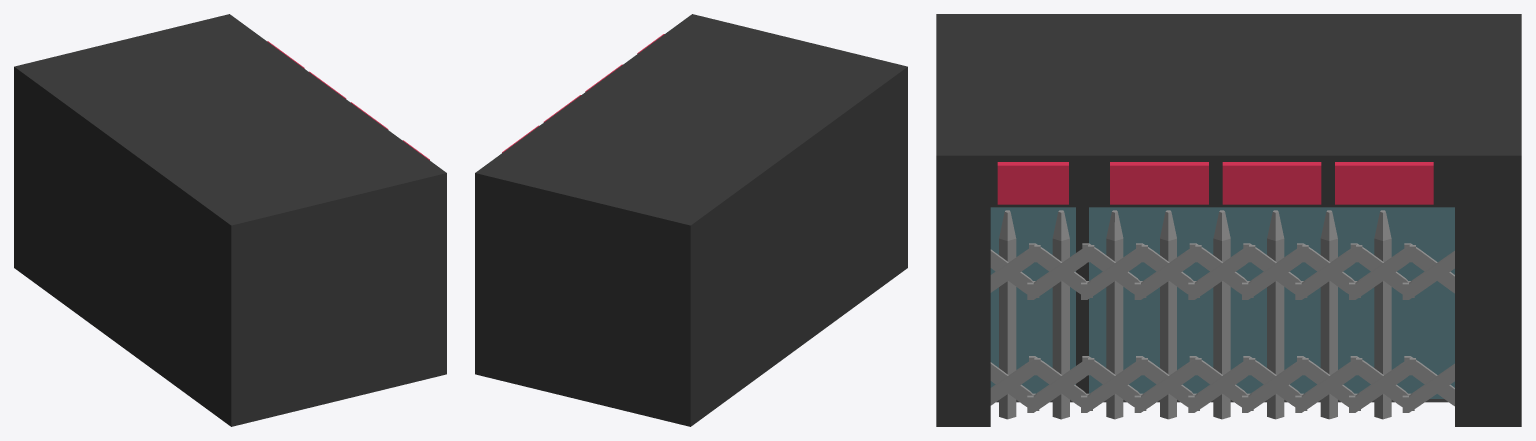
Rendered from Store2a.fbx.
The picture shows the model from 3 angles, left to right: view 1: azimuth 30°, elevation 25°; view 2: azimuth 150°, elevation 25°; view 3: azimuth 270°, elevation 25°; orthographic projection. The views are drawn at different scales.
Visible parts, largest first — view 1: Store2a; view 2: Store2a; view 3: Store2a.
Boxes of the visible parts, <box> form: Store2a: <box>14,14,446,426</box>; Store2a: <box>475,14,907,426</box>; Store2a: <box>936,14,1521,426</box>.
Size of the model in its own units: 263 by 229 by 447.
